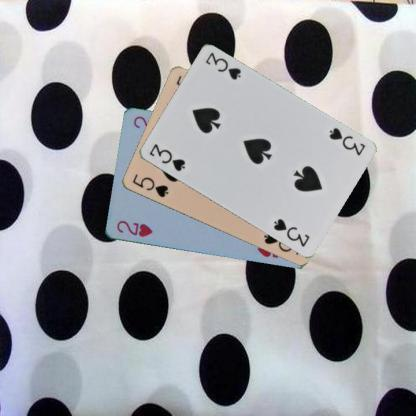2h: (114, 218, 153, 238)
3s: (146, 141, 187, 173), (326, 125, 366, 157)
5s: (129, 171, 170, 199)
